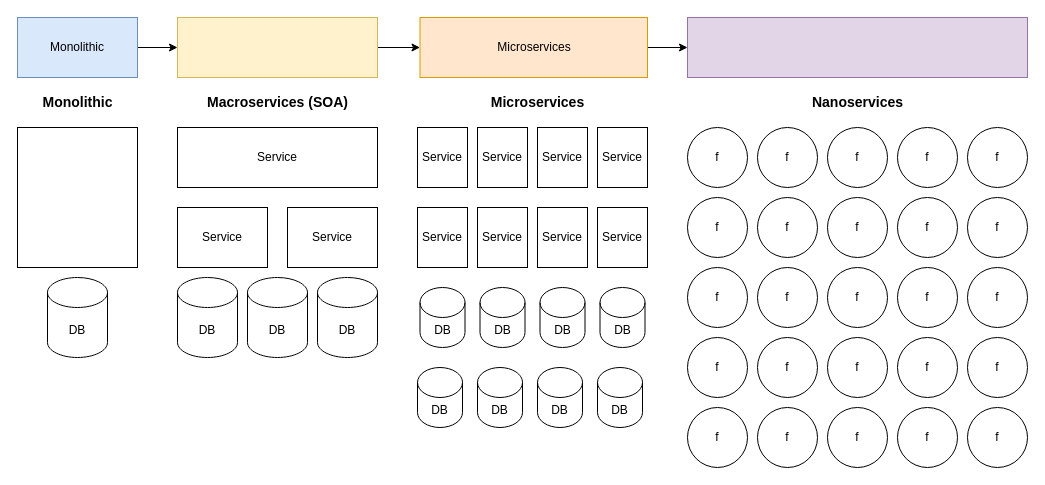
Image size: 1045x485. Some labels were removed from this diagram. Each missing label, with the box of its shape:
Application: (16, 126, 138, 268)
Modular Monolithic: (176, 16, 378, 78)
Serverless: (686, 16, 1028, 78)
